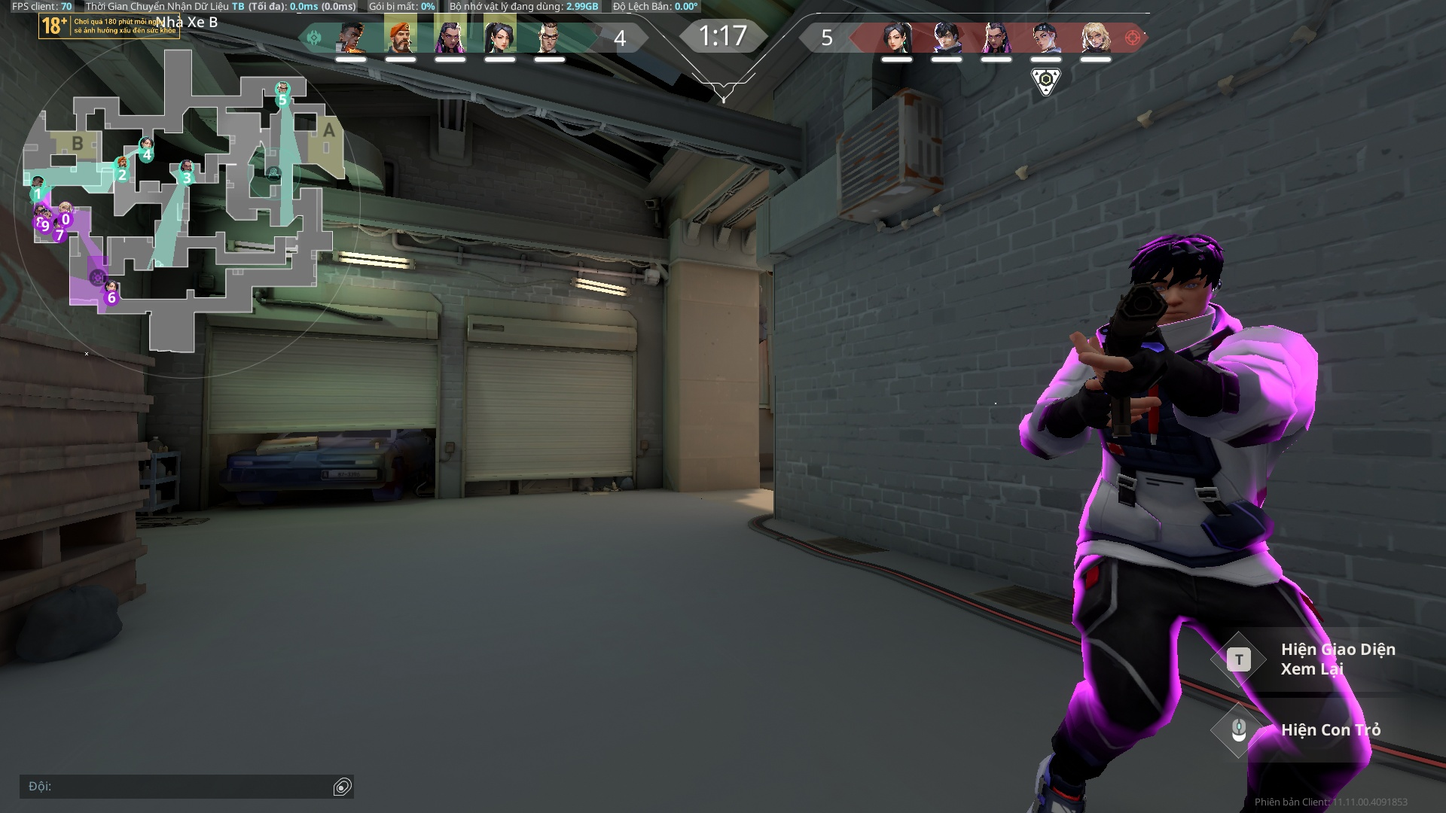body: (1075, 303, 1295, 562)
head: (1117, 227, 1225, 326)
